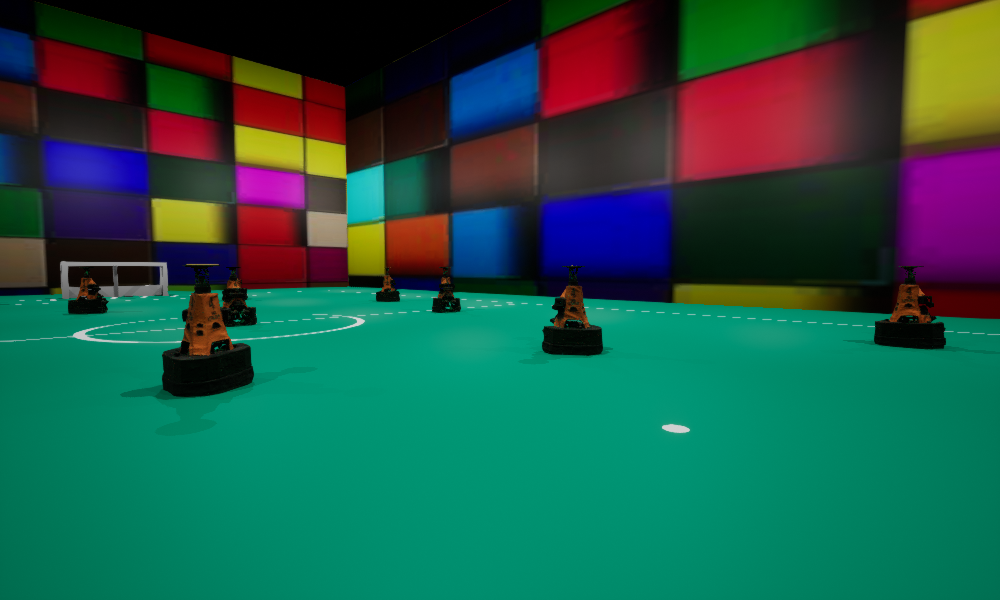0 orange robot TechUnited: (162, 264, 253, 396), (874, 266, 945, 348), (542, 265, 602, 355), (220, 267, 256, 326), (68, 267, 108, 313), (432, 267, 460, 312), (376, 267, 399, 301), (222, 269, 247, 300)
